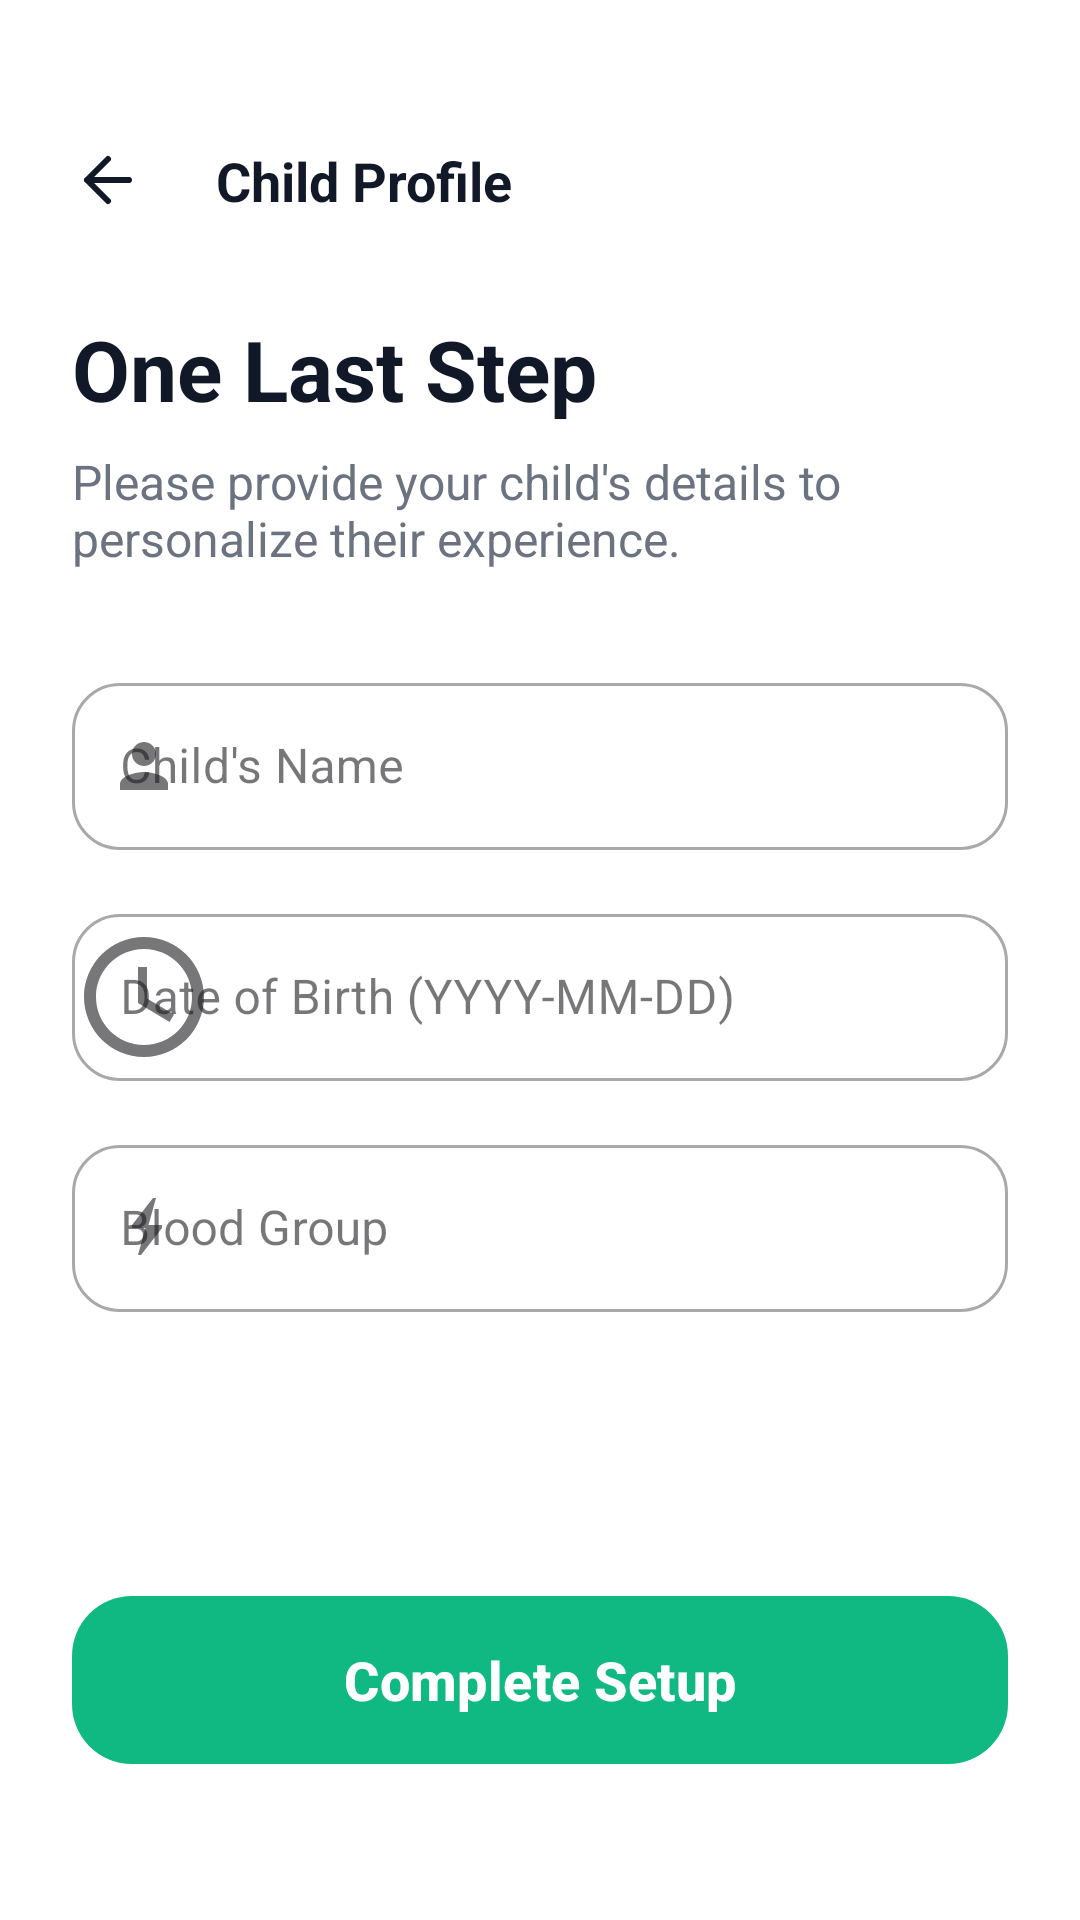

Named icons in this screenshot (1080px×1920px) and their centers, (x=x, y=y):
back: (x=108, y=180)
